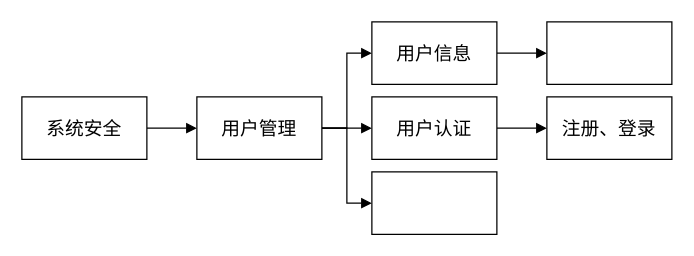
Some shapes in this 694 by 256 pixel diagram are drawn without their labels. Here are the shapes that lost their labels. From the top down, the centre of each, then its label:
the point at 609,52: 增删查改信息
the point at 434,202: 用户权限
